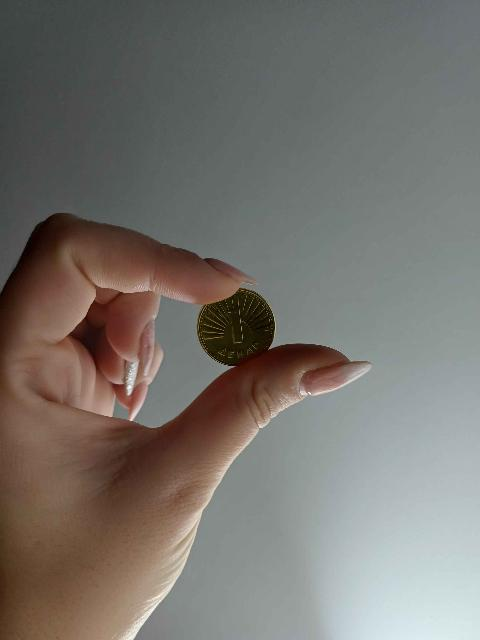1_coin: (197, 288, 275, 365)
